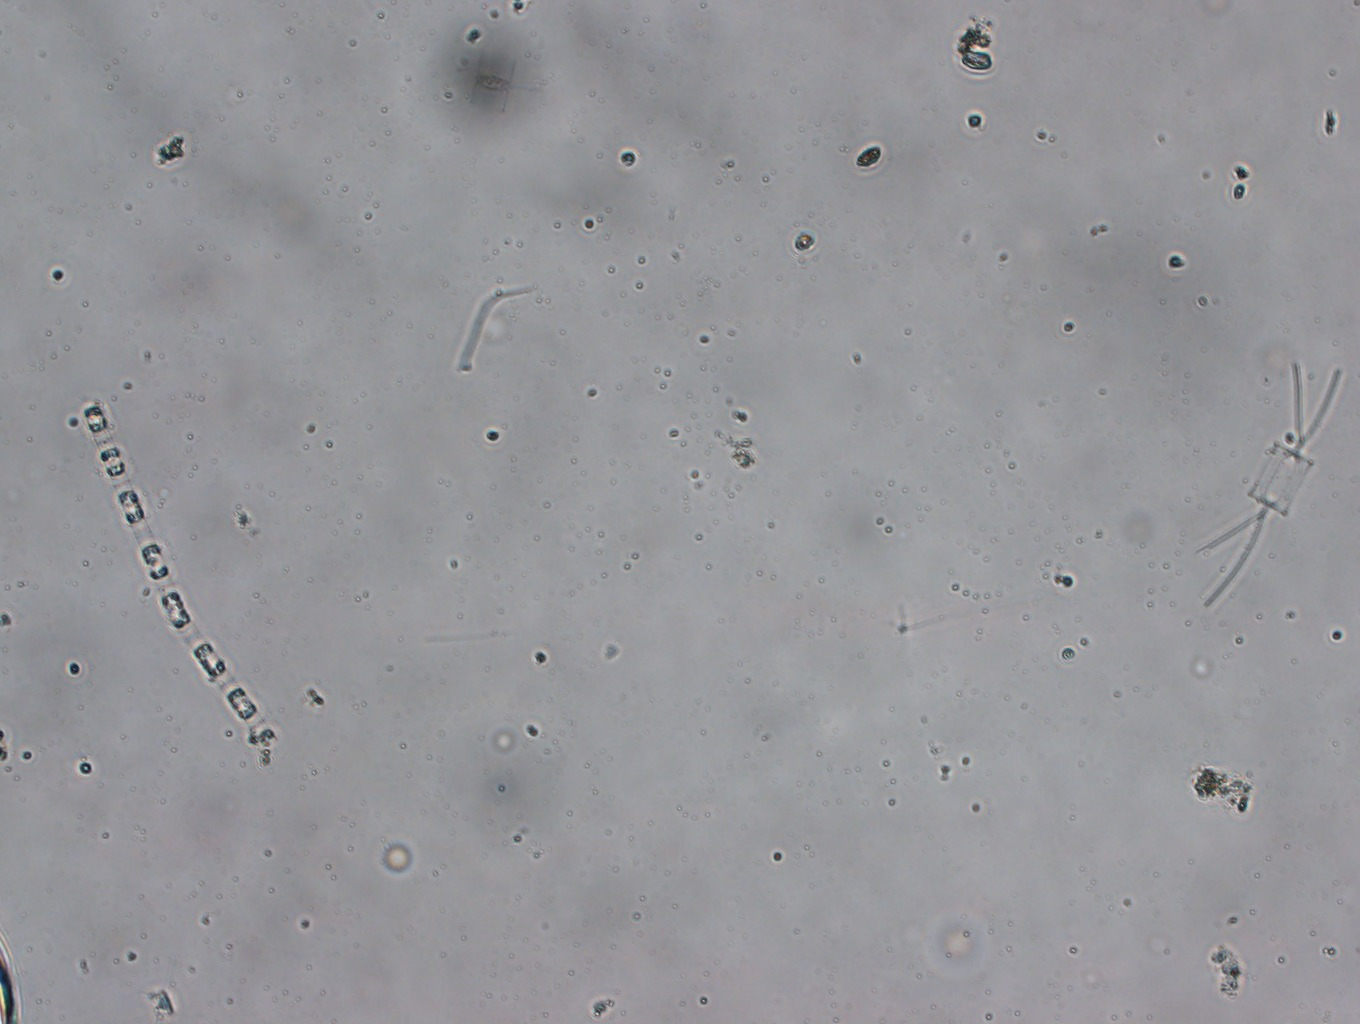chaetoceros: (1197, 364, 1346, 616)
skeletonema: (83, 402, 280, 753)
